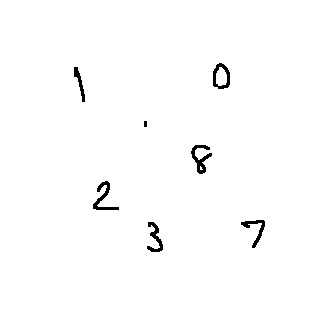.: (135, 116, 152, 133)
0: (209, 60, 236, 98)
1: (67, 58, 94, 110)
2: (90, 176, 124, 219)
3: (138, 212, 174, 270)
7: (236, 217, 273, 259)
8: (184, 136, 226, 180)
